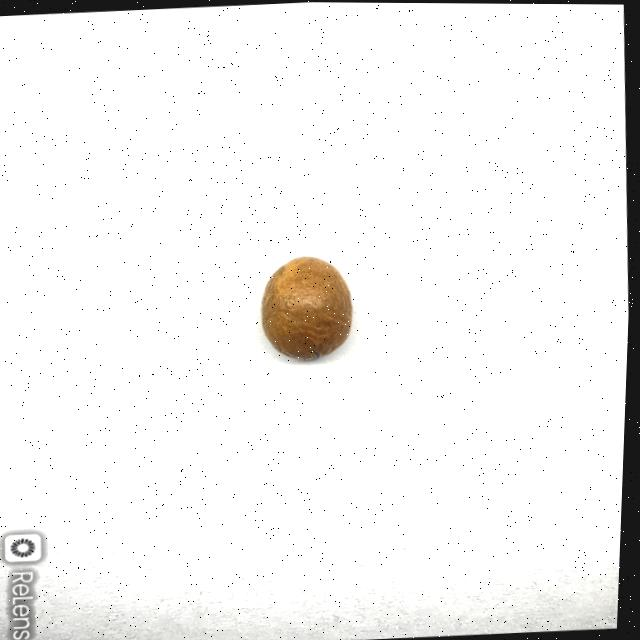Good bean: (261, 253, 357, 362)
